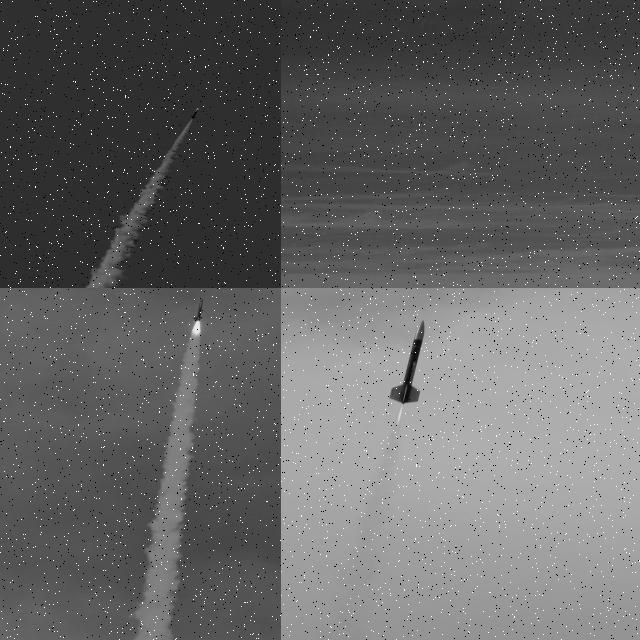Rocket: (388, 319, 426, 404), (192, 298, 204, 322), (190, 108, 199, 119)
